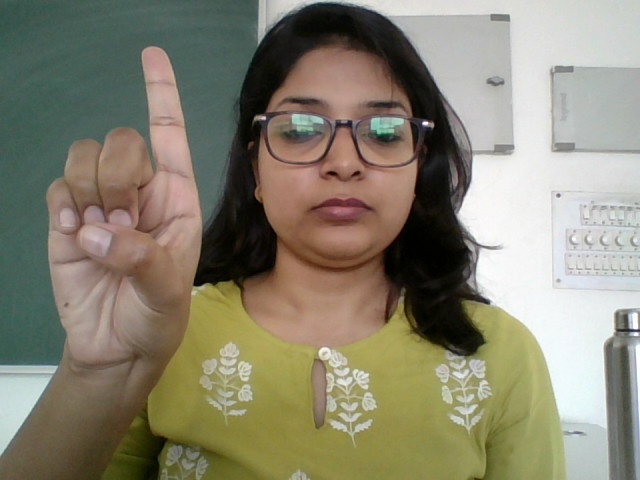D: (35, 43, 221, 365)
